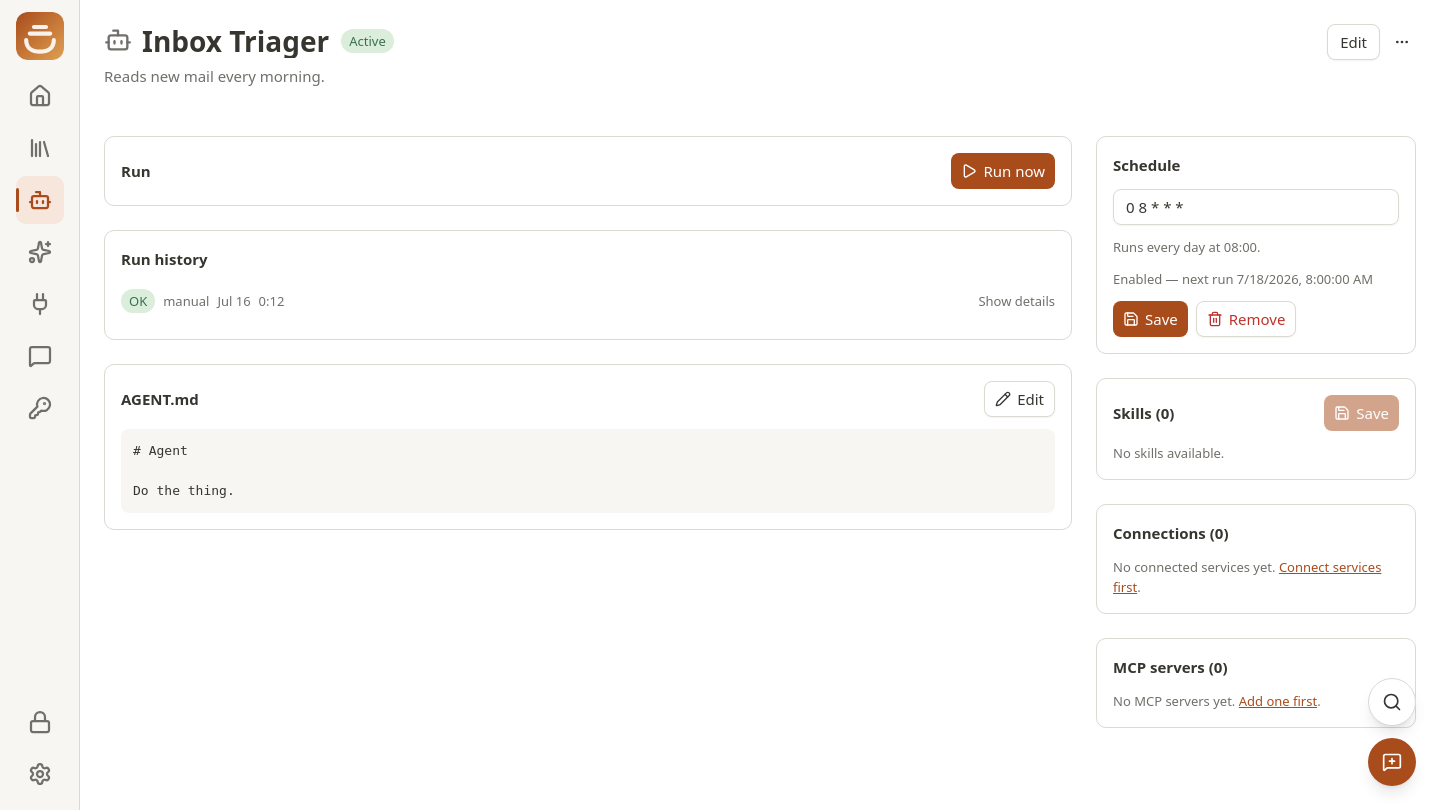
Test case: AGENT.md save shows the ethics_blocked message inline and does not exit edit mode
The image size is (1440, 810).
Click the button "Edit".
click(1020, 399)  # box [984,381,1055,417]
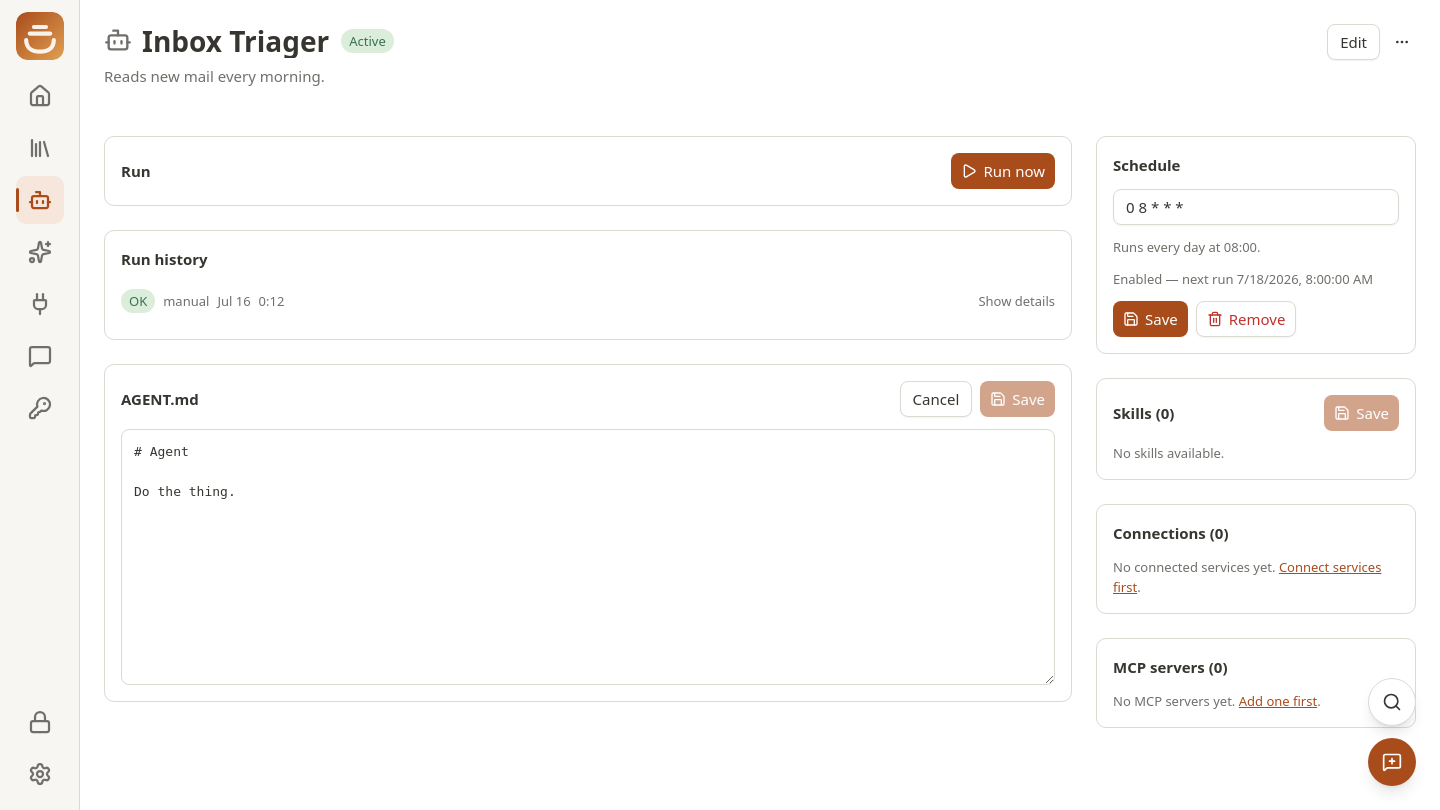
Type " more" into the text box named "AGENT.md".
click(588, 557); type(" more")  # box [121,429,1055,685]
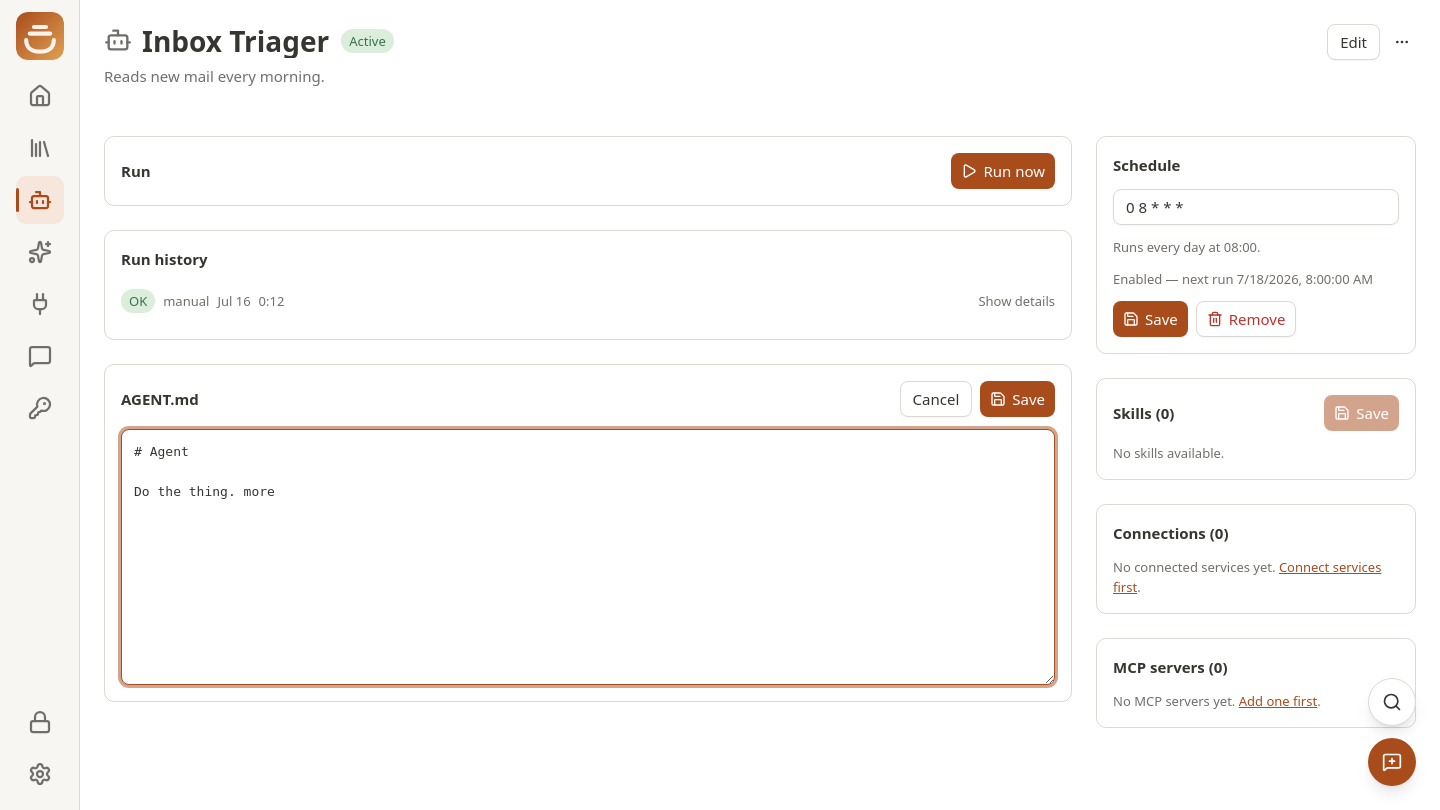
Click the button with aria-label "save agent.md".
click(1018, 399)  # box [980,381,1055,417]
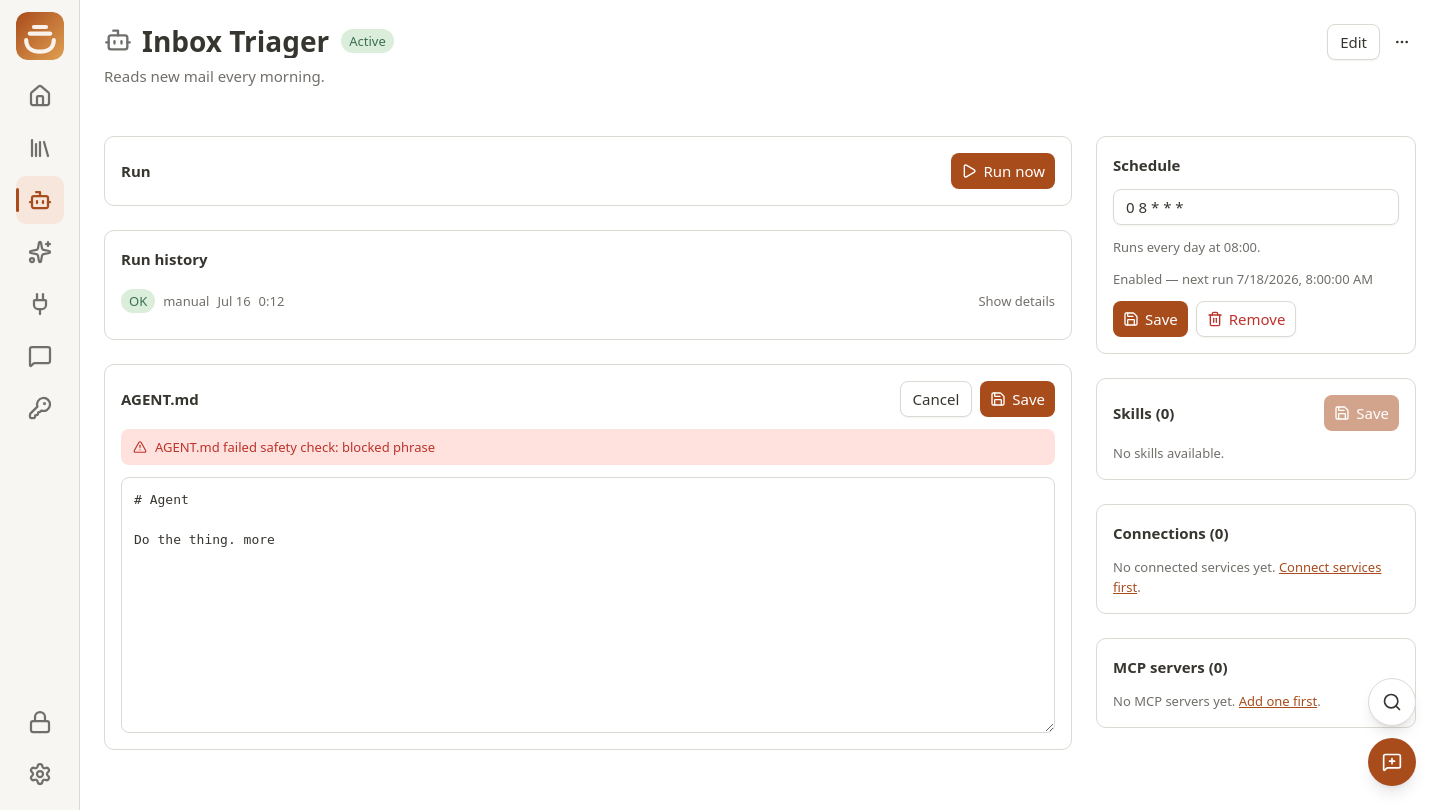
Result: the text box named "AGENT.md" is shown at [121,477,1055,733]
Result: the text "AGENT.md failed safety check: blocked phrase" is shown at [121,429,1055,465]
